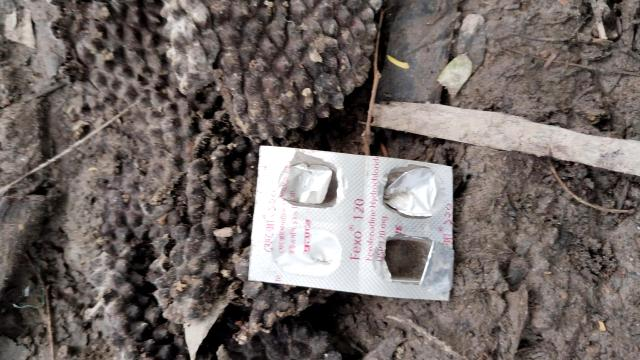medicine: (255, 141, 454, 294)
